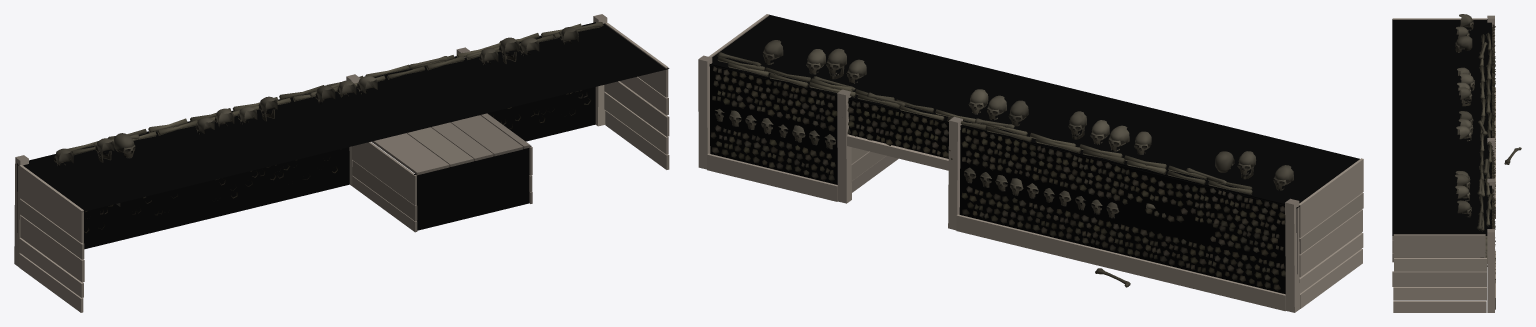
File: prop_charnel_bones.glb
3 renders of one model, left to right at view 1: azimuth 30°, elevation 25°; view 2: azimuth 150°, elevation 25°; view 3: azimuth 270°, elevation 25°, orthographic. The views are drawn at different scales.
Parts seen in each view (by area): view 1: CharnelBones, CharnelBonesSoft; view 2: CharnelBones, CharnelBonesSoft; view 3: CharnelBones, CharnelBonesSoft.
Boxes of the visible parts, left/top/right/bottom form: CharnelBones: left=14, top=14, right=669, bottom=312; CharnelBonesSoft: left=54, top=22, right=603, bottom=233; CharnelBones: left=698, top=14, right=1363, bottom=312; CharnelBonesSoft: left=710, top=40, right=1293, bottom=290; CharnelBones: left=1392, top=15, right=1495, bottom=312; CharnelBonesSoft: left=1455, top=14, right=1521, bottom=282.
Bounding box in the file's own units: 6.01 × 1.24 × 1.51.
